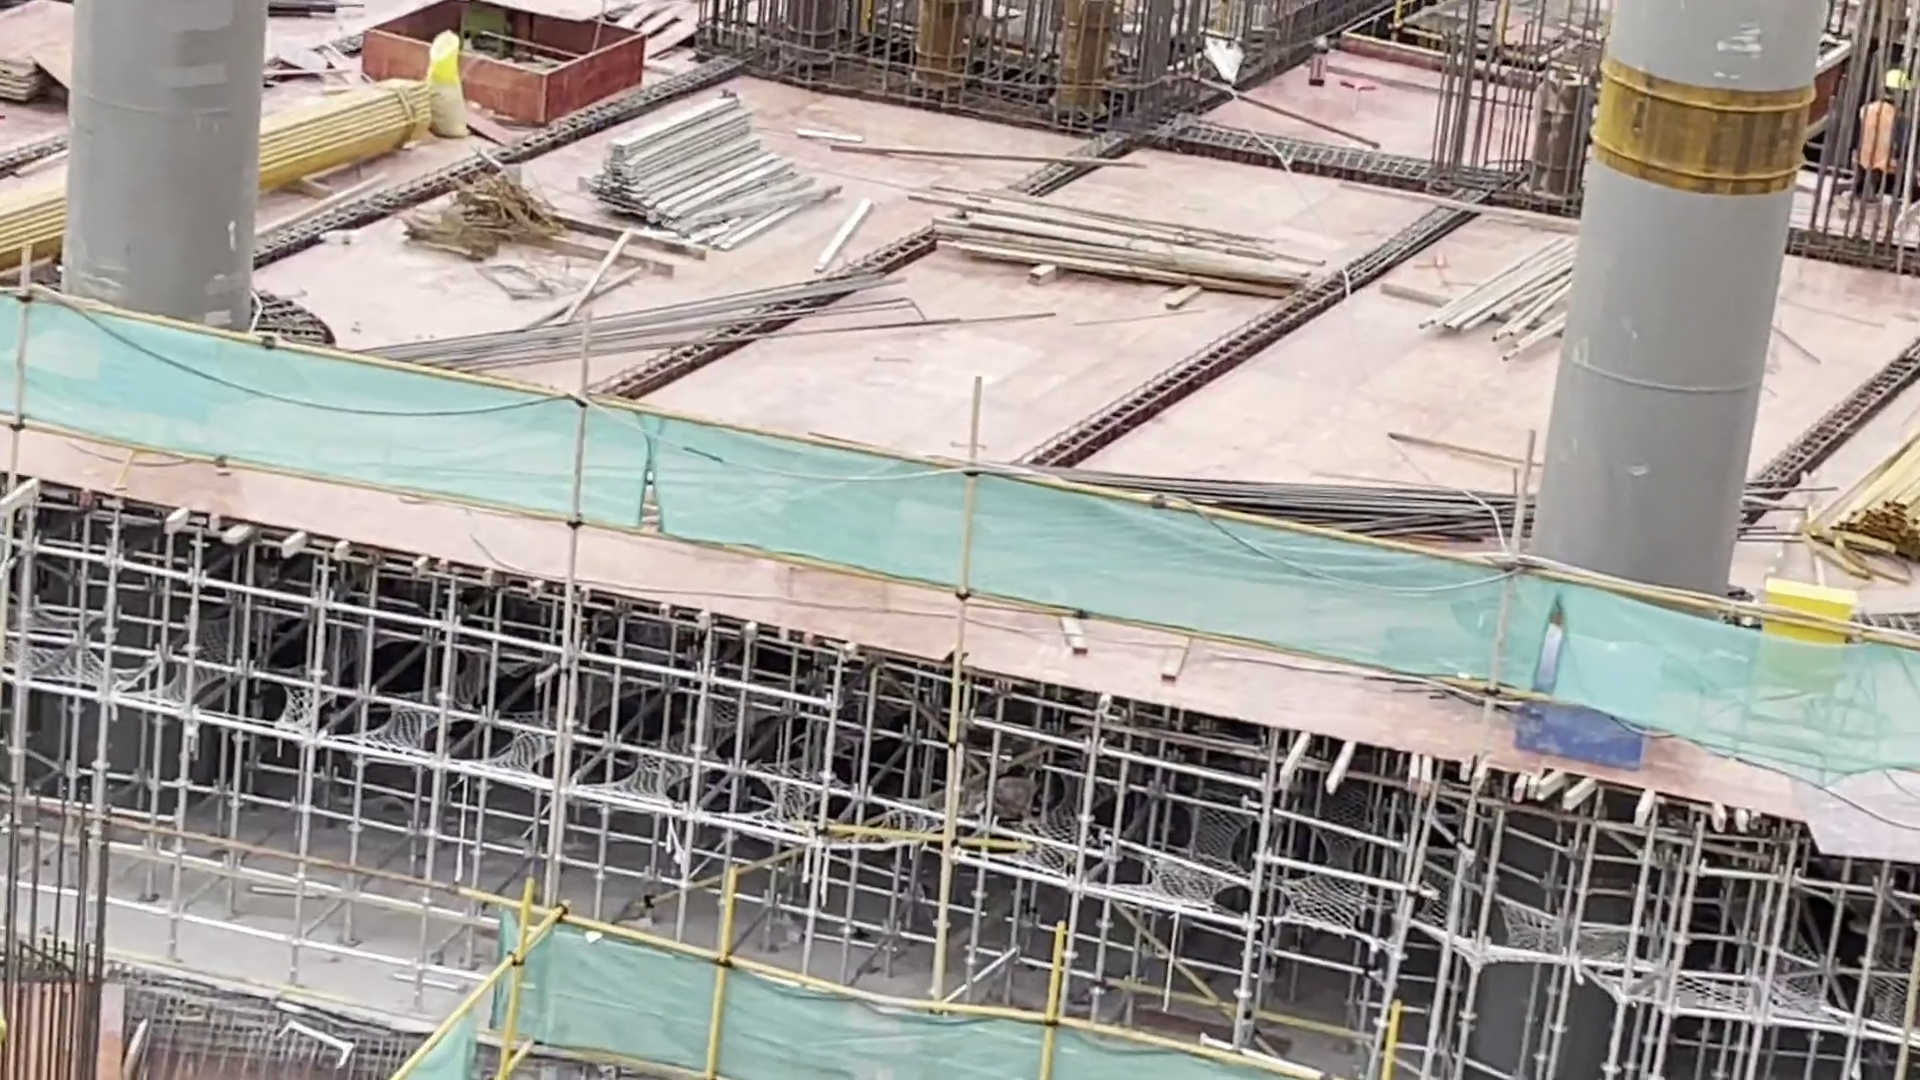person: (1853, 63, 1909, 205)
wood: (911, 181, 1329, 306)
